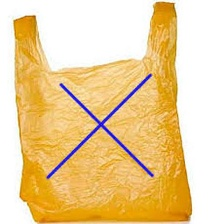plastic_bag: (8, 0, 196, 224)
